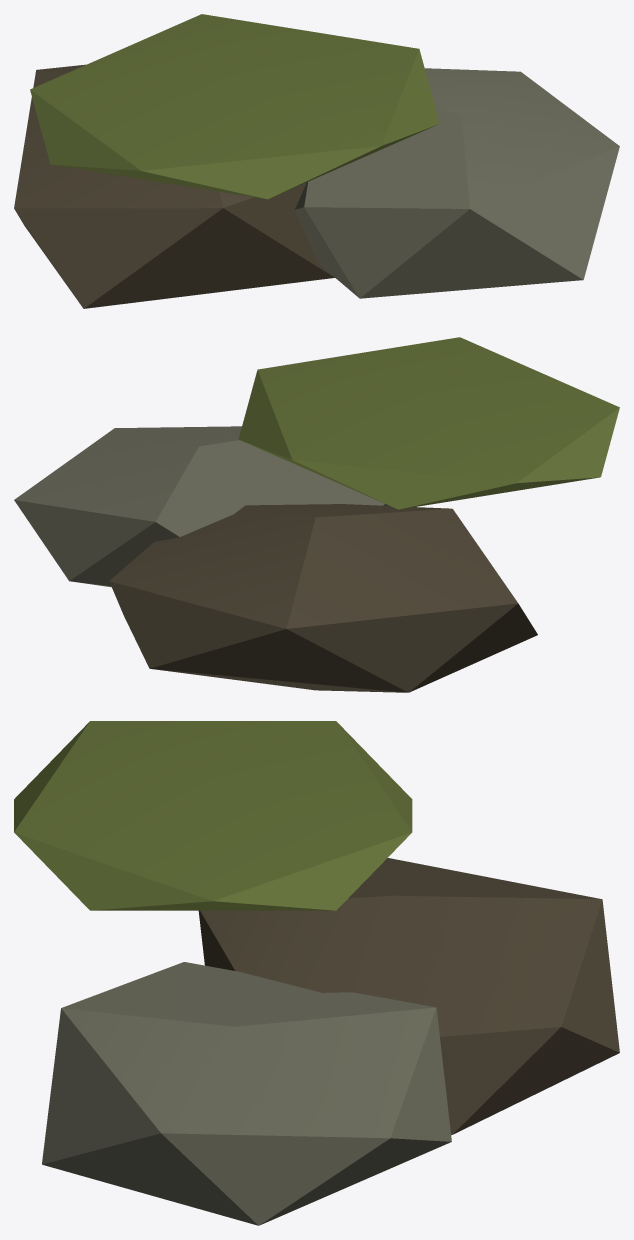
The model's file is SW_ENV_Rock_1.fbx.
3 renders of one model, top to bottom at view 1: azimuth 30°, elevation 25°; view 2: azimuth 150°, elevation 25°; view 3: azimuth 270°, elevation 25°, orthographic. The views are drawn at different scales.
Visible parts, largest first — view 1: SW_ENV_Rock_1; view 2: SW_ENV_Rock_1; view 3: SW_ENV_Rock_1.
Boxes of the visible parts, x1=… form: SW_ENV_Rock_1: x1=14, y1=14, x2=619, y2=308; SW_ENV_Rock_1: x1=14, y1=337, x2=619, y2=692; SW_ENV_Rock_1: x1=14, y1=721, x2=619, y2=1225.
Bounding box in the file's own units: 1.23 × 0.5504 × 1.04.
